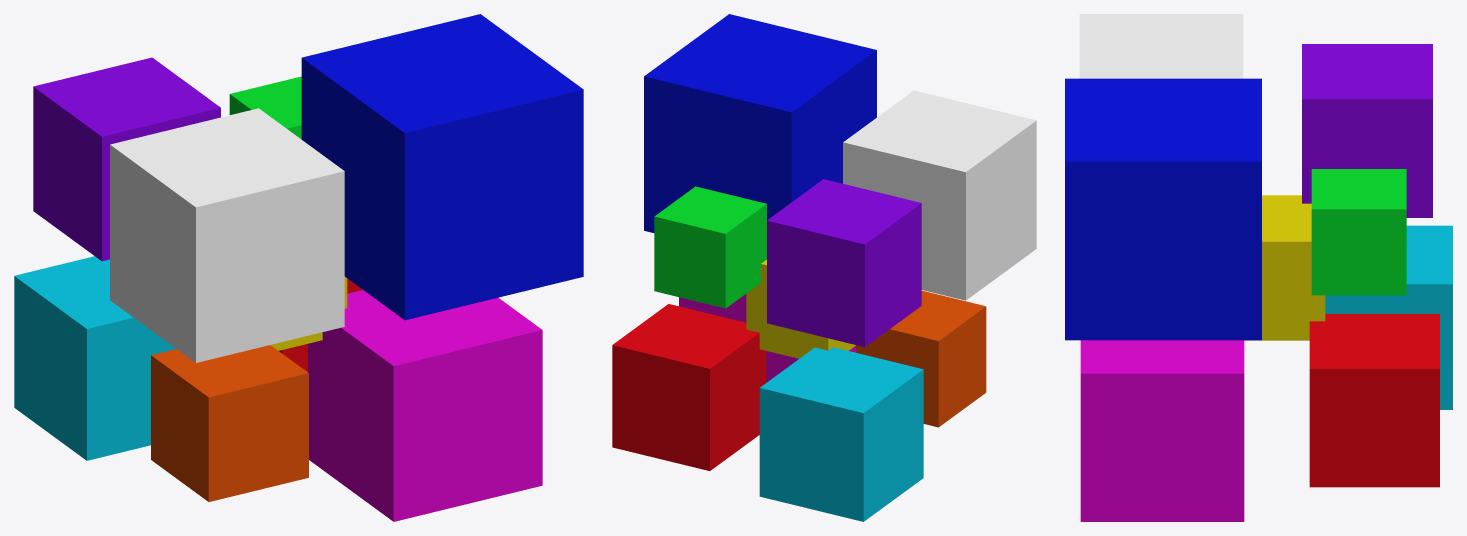
The model's file is планета 7.dae.
3 renders of one model, left to right at view 1: azimuth 30°, elevation 25°; view 2: azimuth 150°, elevation 25°; view 3: azimuth 270°, elevation 25°, orthographic. The views are drawn at different scales.
Parts seen in each view (by area): view 1: Cube.003; view 2: Cube.003; view 3: Cube.003.
Part boxes in pixels (x1=…): Cube.003: x1=14, y1=14, x2=583, y2=521; Cube.003: x1=612, y1=14, x2=1036, y2=521; Cube.003: x1=1065, y1=14, x2=1452, y2=521.
Bounding box in the file's own units: 7.67 × 7.1 × 7.59.
